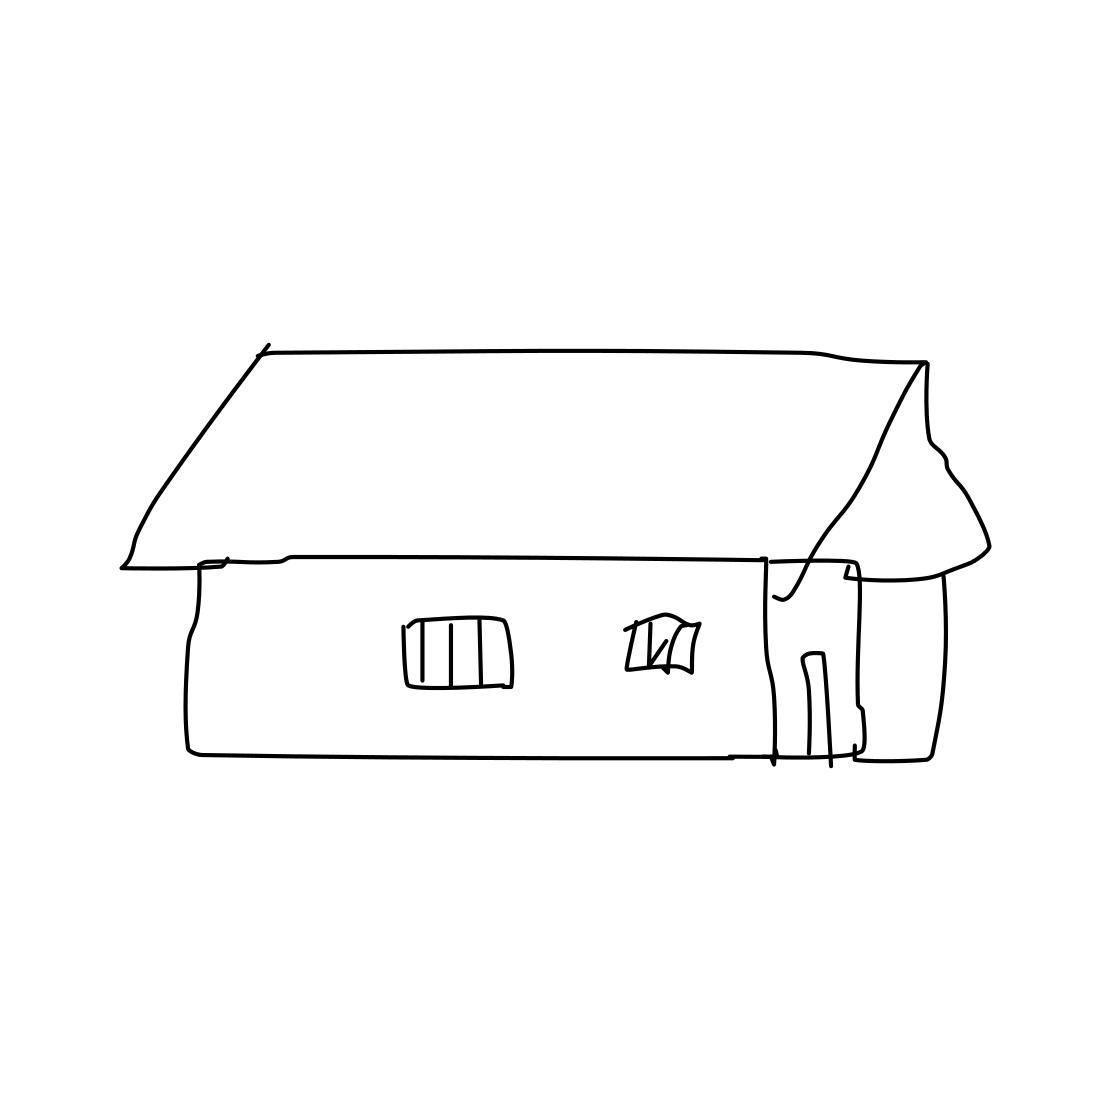House: (109, 287, 1008, 790)
